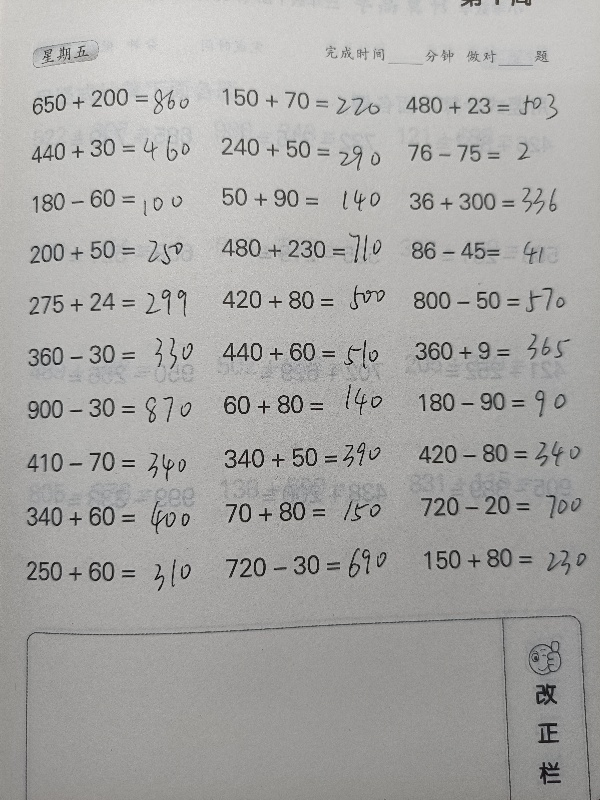equation: (215, 77, 393, 123), (217, 544, 397, 589), (214, 332, 394, 377), (214, 223, 394, 268), (20, 389, 200, 431), (410, 383, 590, 425), (22, 128, 202, 170), (398, 86, 578, 128), (24, 81, 204, 123), (409, 431, 589, 472), (23, 181, 203, 222), (400, 178, 580, 219), (215, 437, 395, 477), (404, 281, 584, 321), (213, 132, 393, 172), (17, 553, 197, 589), (415, 540, 595, 576), (217, 493, 397, 529), (412, 487, 592, 523), (18, 499, 198, 534), (18, 444, 198, 479), (215, 387, 395, 422), (19, 337, 199, 372), (407, 334, 587, 368), (20, 285, 200, 319), (214, 283, 394, 317), (403, 234, 583, 268), (21, 234, 201, 268), (213, 180, 393, 214), (399, 137, 579, 170)
